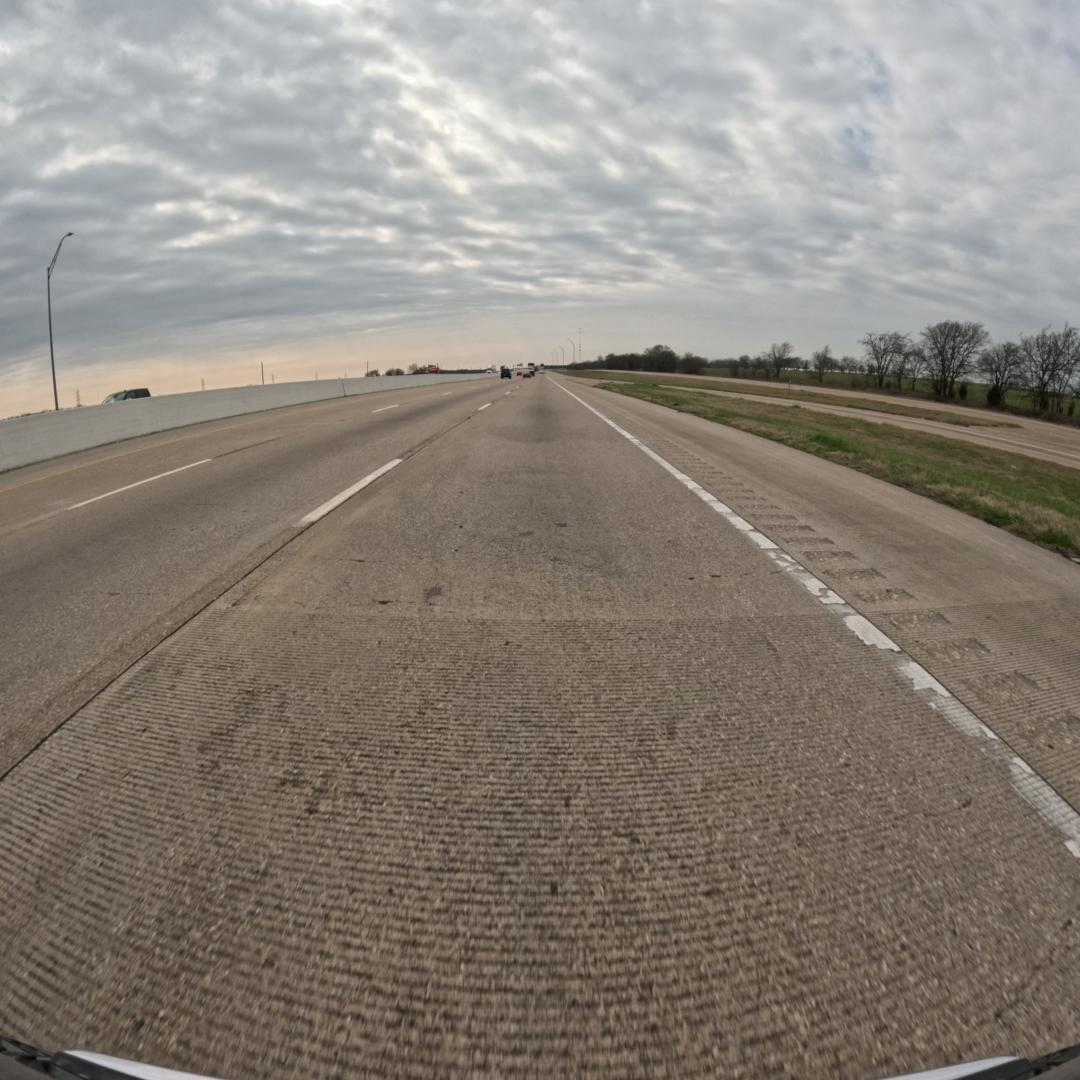lane0: (0, 379, 1080, 1077)
lane1: (0, 386, 503, 776)
